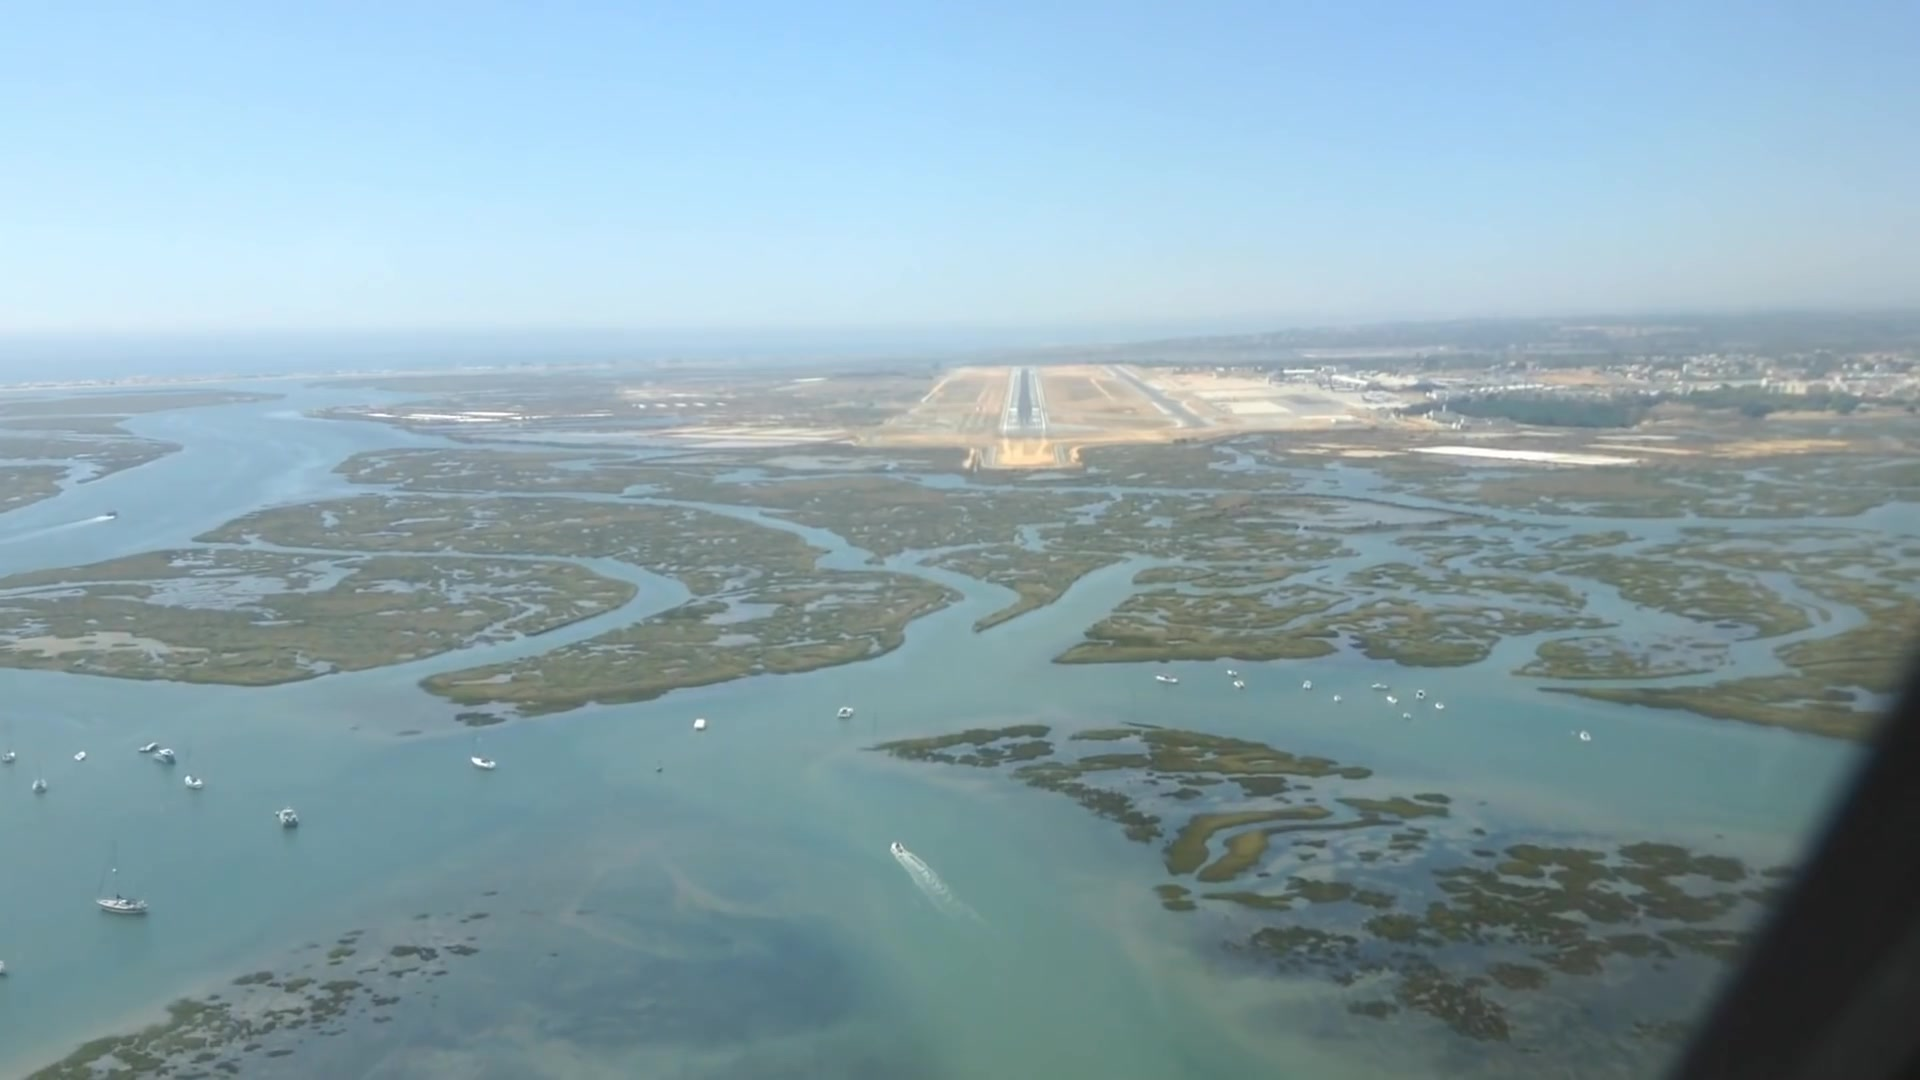runway: (996, 367, 1048, 436)
